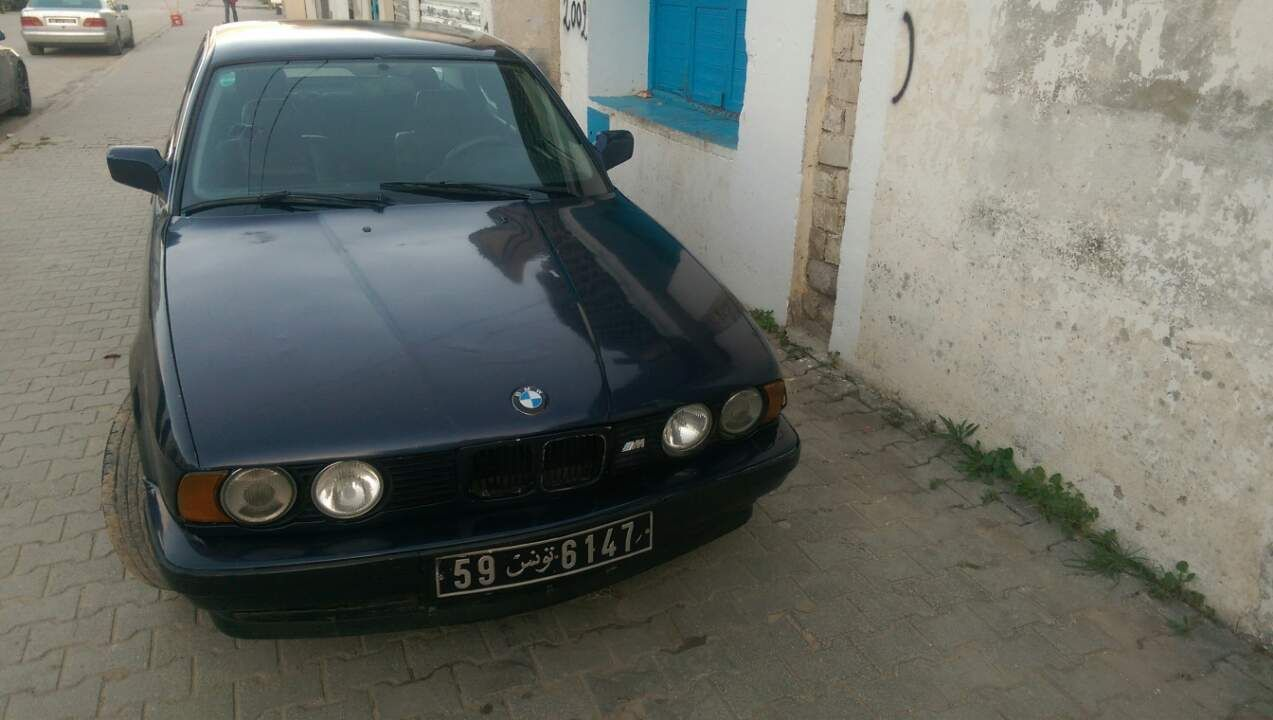LP: (431, 516, 660, 600)
